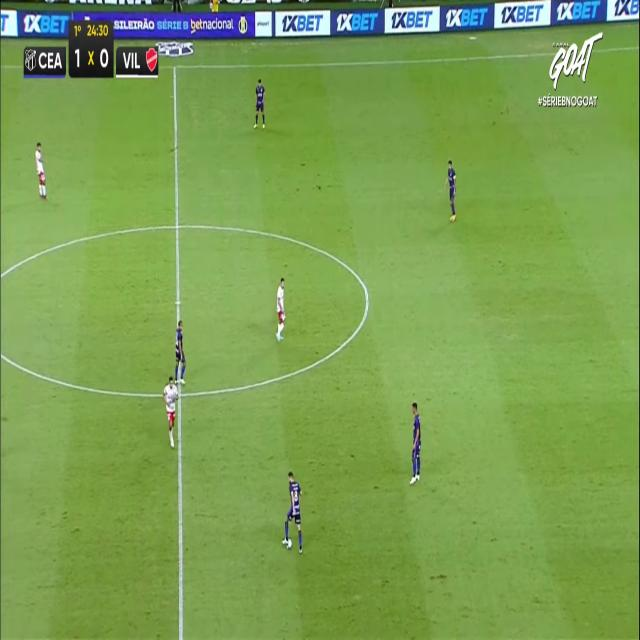ball: (286, 538, 293, 552)
player: (282, 472, 302, 554), (163, 374, 179, 447), (410, 402, 421, 484), (174, 319, 186, 384), (445, 159, 457, 220), (35, 142, 47, 198), (275, 276, 285, 341), (254, 77, 266, 128)
